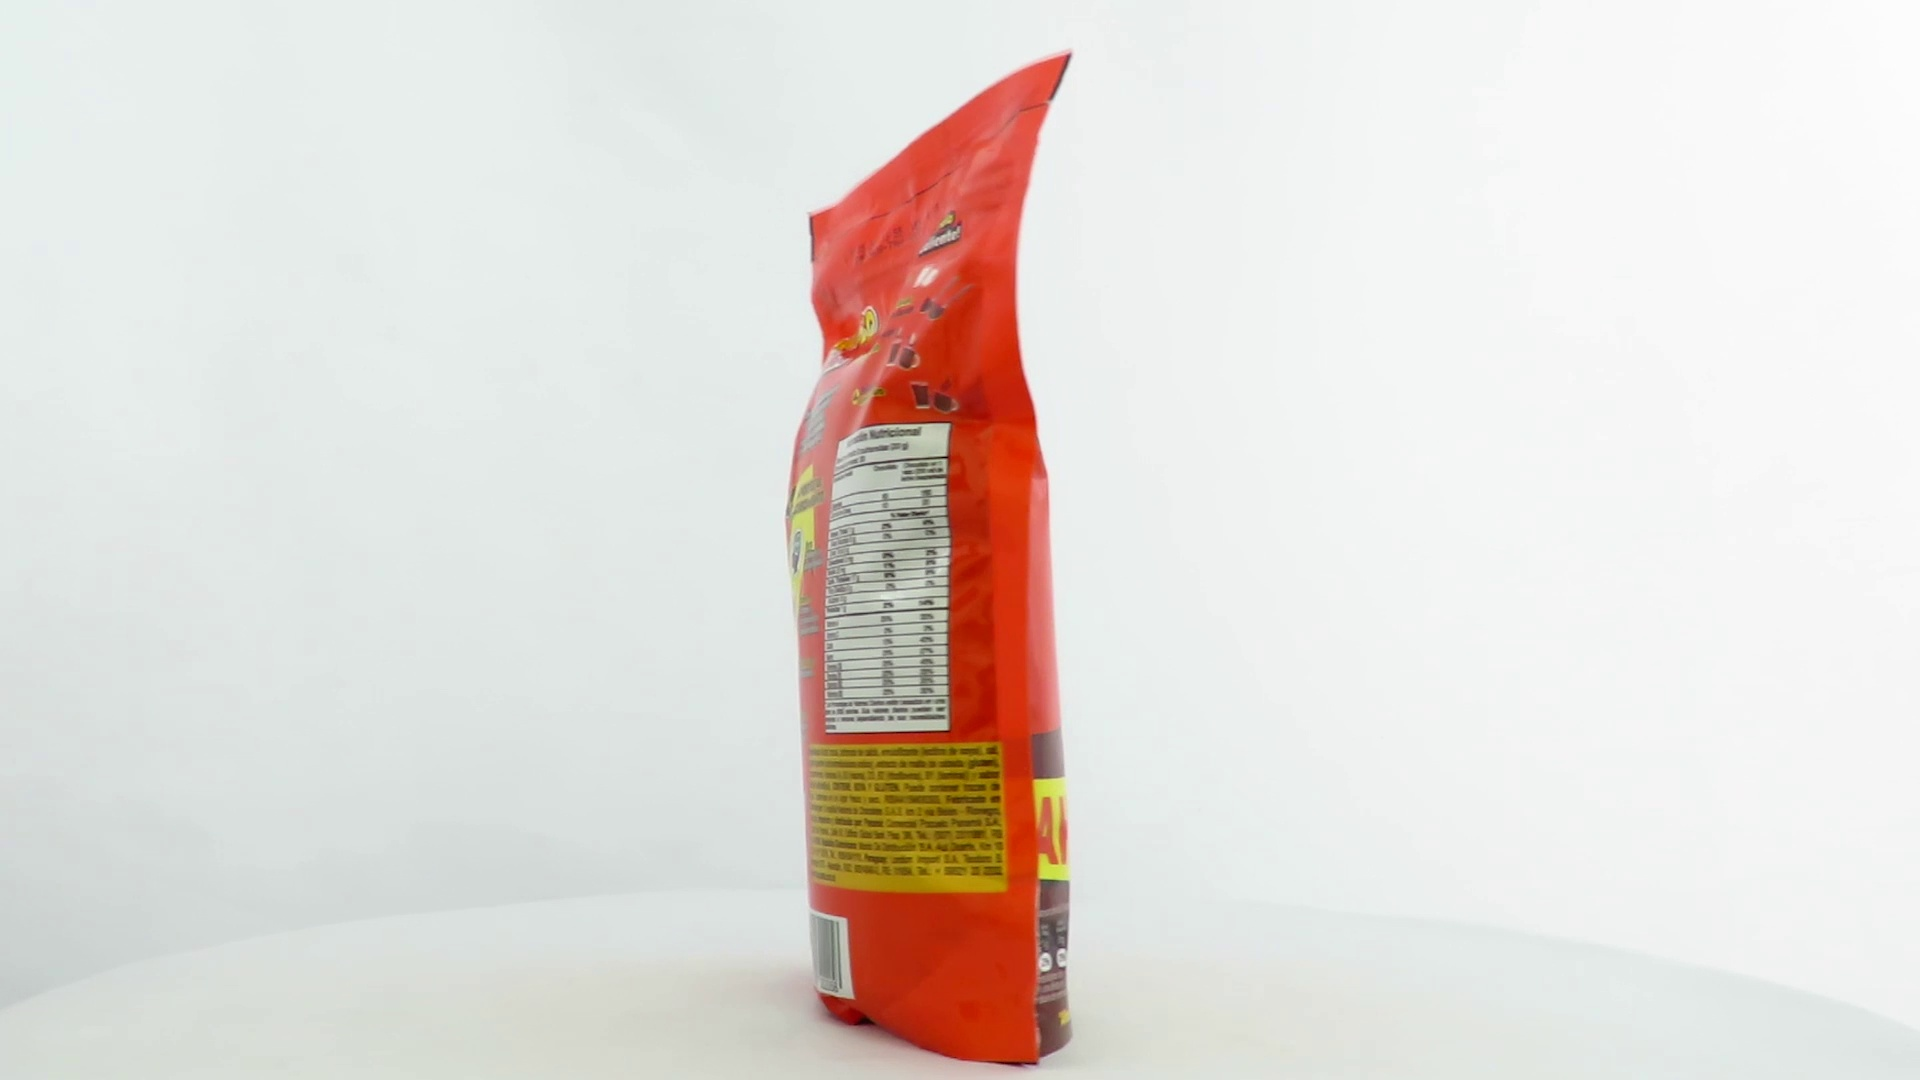COL0170103DYP40000: (781, 47, 1079, 1075)
